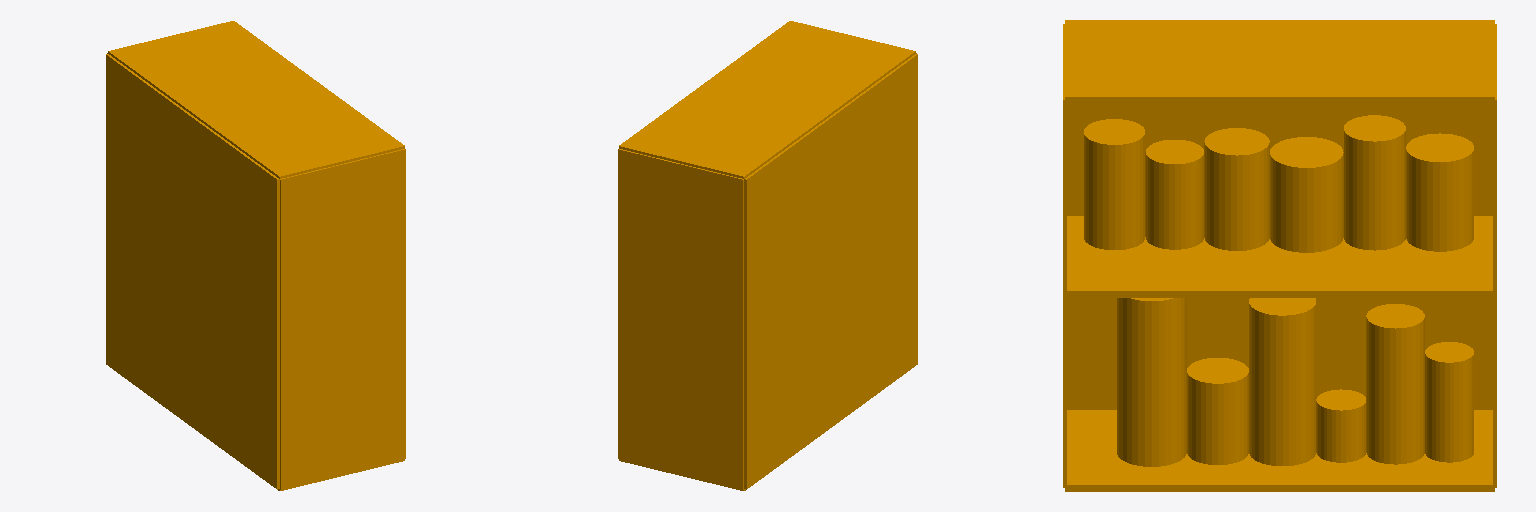
The robot description file, URDF, robot "syn_can_cabinet_packed_nonuniform_16":
<?xml version="1.0" ?>
<robot name="syn_can_cabinet_packed_nonuniform_16">
    <link concave="yes" name="base_link">
        <inertial>
            <origin rpy="0 0 0" xyz="0 0 0"/>
            <mass value="0.0"/>
            <inertia ixx="1e-08" ixy="0" ixz="0" iyy="1e-08" iyz="0" izz="1e-08"/>
        </inertial>
        <visual>
            <origin xyz="0 0 0" rpy="0 0 0" />
            <geometry>
                <mesh filename="syn_can_cabinet_packed_nonuniform_16.obj" scale="1.000000 1.000000 1.000000"/>
            </geometry>         
        </visual>

        <collision concave="yes">
            <origin xyz="0 0 0" rpy="0 0 0"/>
            <geometry>
                <mesh filename="syn_can_cabinet_packed_nonuniform_16.obj" scale="1.000000 1.000000 1.000000"/>
            </geometry>
        </collision>
    </link>
</robot>
    

--- What the picture shows (computed from the rendered views, not written in the file) ---
The picture shows the robot from 3 angles, left to right: view 1: azimuth 30°, elevation 25°; view 2: azimuth 150°, elevation 25°; view 3: azimuth 270°, elevation 25°; orthographic projection.
Robot: syn_can_cabinet_packed_nonuniform_16 — 1 links, 0 joints (none); root link base_link; default pose: every joint at zero.
Visible links, largest first — view 1: base_link; view 2: base_link; view 3: base_link.
Link boxes in pixels (x1,y1,x2,y2): base_link: (106,21,405,490); base_link: (618,21,917,490); base_link: (1063,20,1496,491).
Bounding box of the posed robot: 0.1622 × 0.3803 × 0.381 m (x, y, z).
Meshes: 1 distinct files referenced, 1 mesh visuals loaded (1 OBJ).
